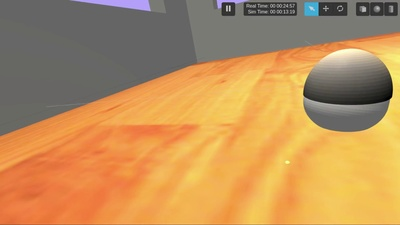mira_robot: (303, 48, 393, 133)
